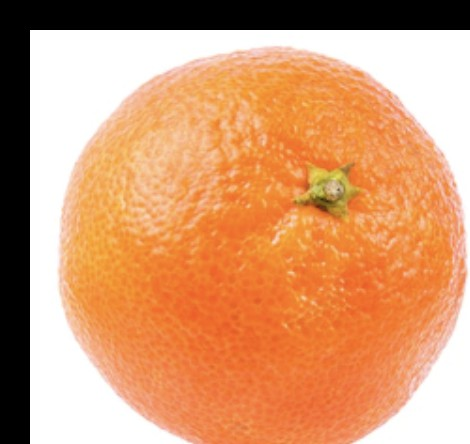fresh_orange: (57, 47, 468, 444)
